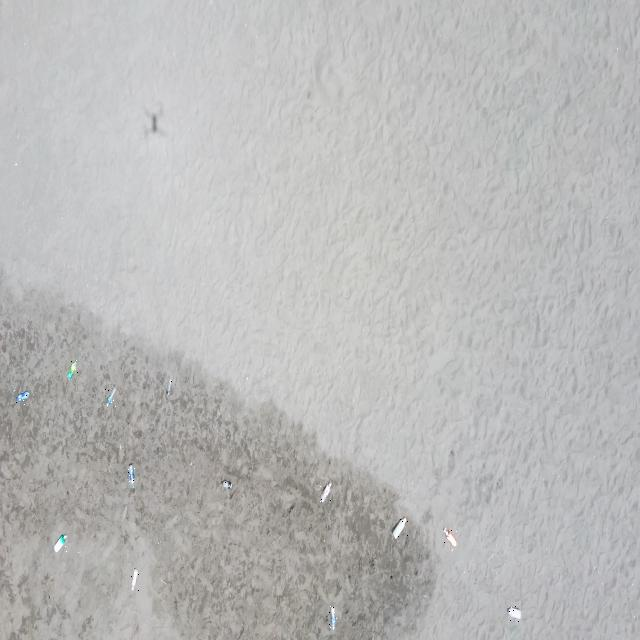plastic-bottle: (392, 516, 409, 540), (318, 479, 332, 504), (105, 385, 117, 409), (506, 606, 523, 622), (14, 390, 31, 405), (130, 567, 140, 592), (444, 528, 457, 547), (54, 534, 67, 552), (67, 360, 78, 380), (128, 464, 136, 491), (164, 377, 174, 398), (329, 605, 337, 631), (220, 479, 234, 492)
